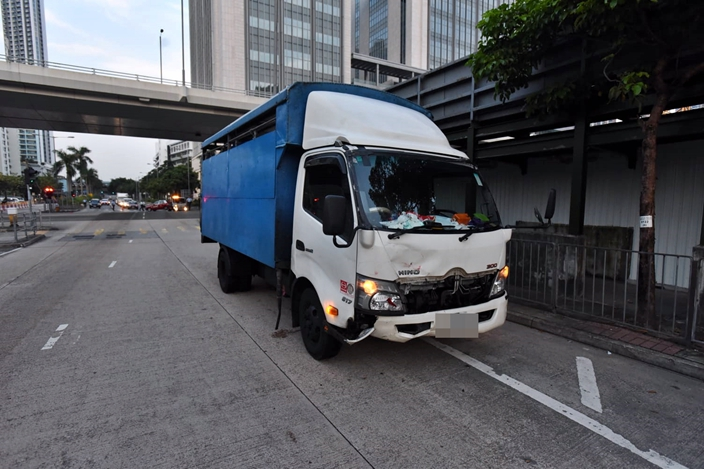truck_large: (190, 74, 524, 378)
